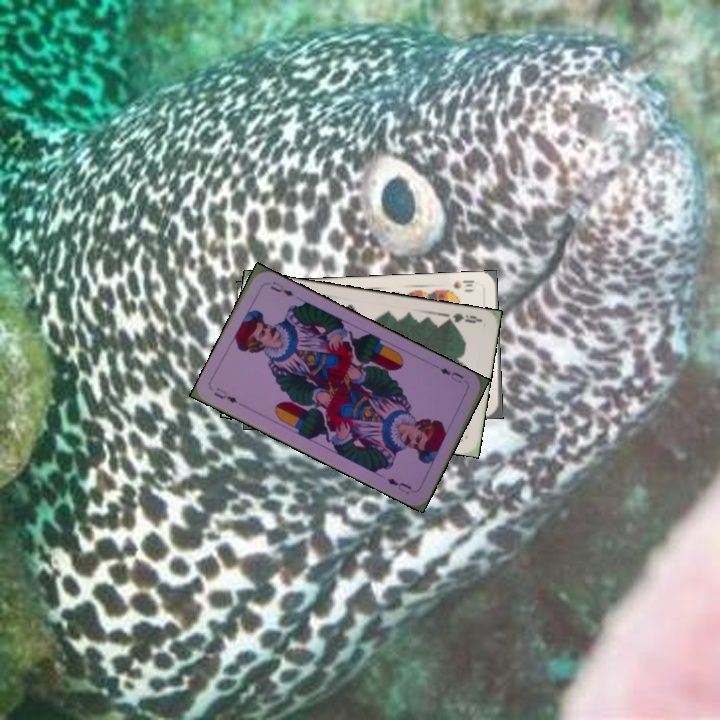EU: (436, 363, 467, 386), (209, 383, 240, 406)
G9: (442, 309, 484, 326)
S10: (449, 276, 477, 294)
